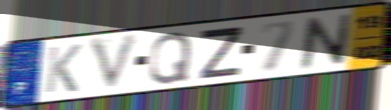7: (259, 18, 297, 75)
K: (43, 43, 84, 95)
N: (297, 12, 354, 71)
Q: (147, 30, 195, 86)
V: (86, 32, 143, 95)
Z: (198, 25, 245, 81)
